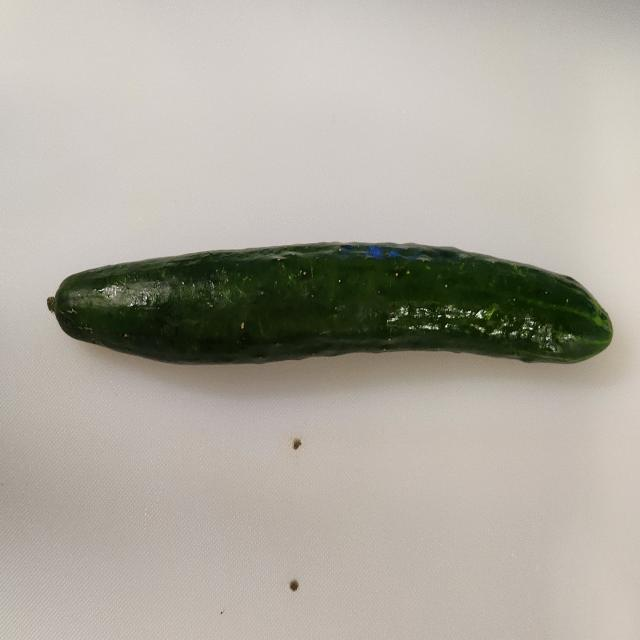cucumber: (46, 240, 614, 365)
